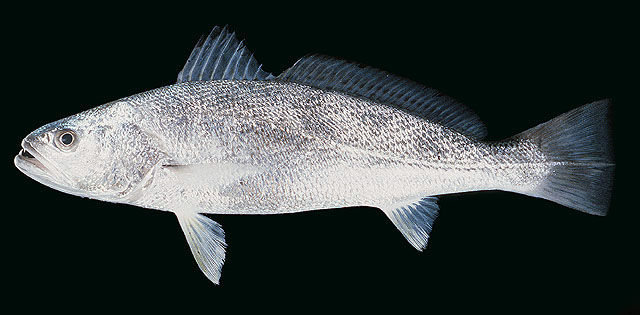fish: (13, 23, 615, 285)
